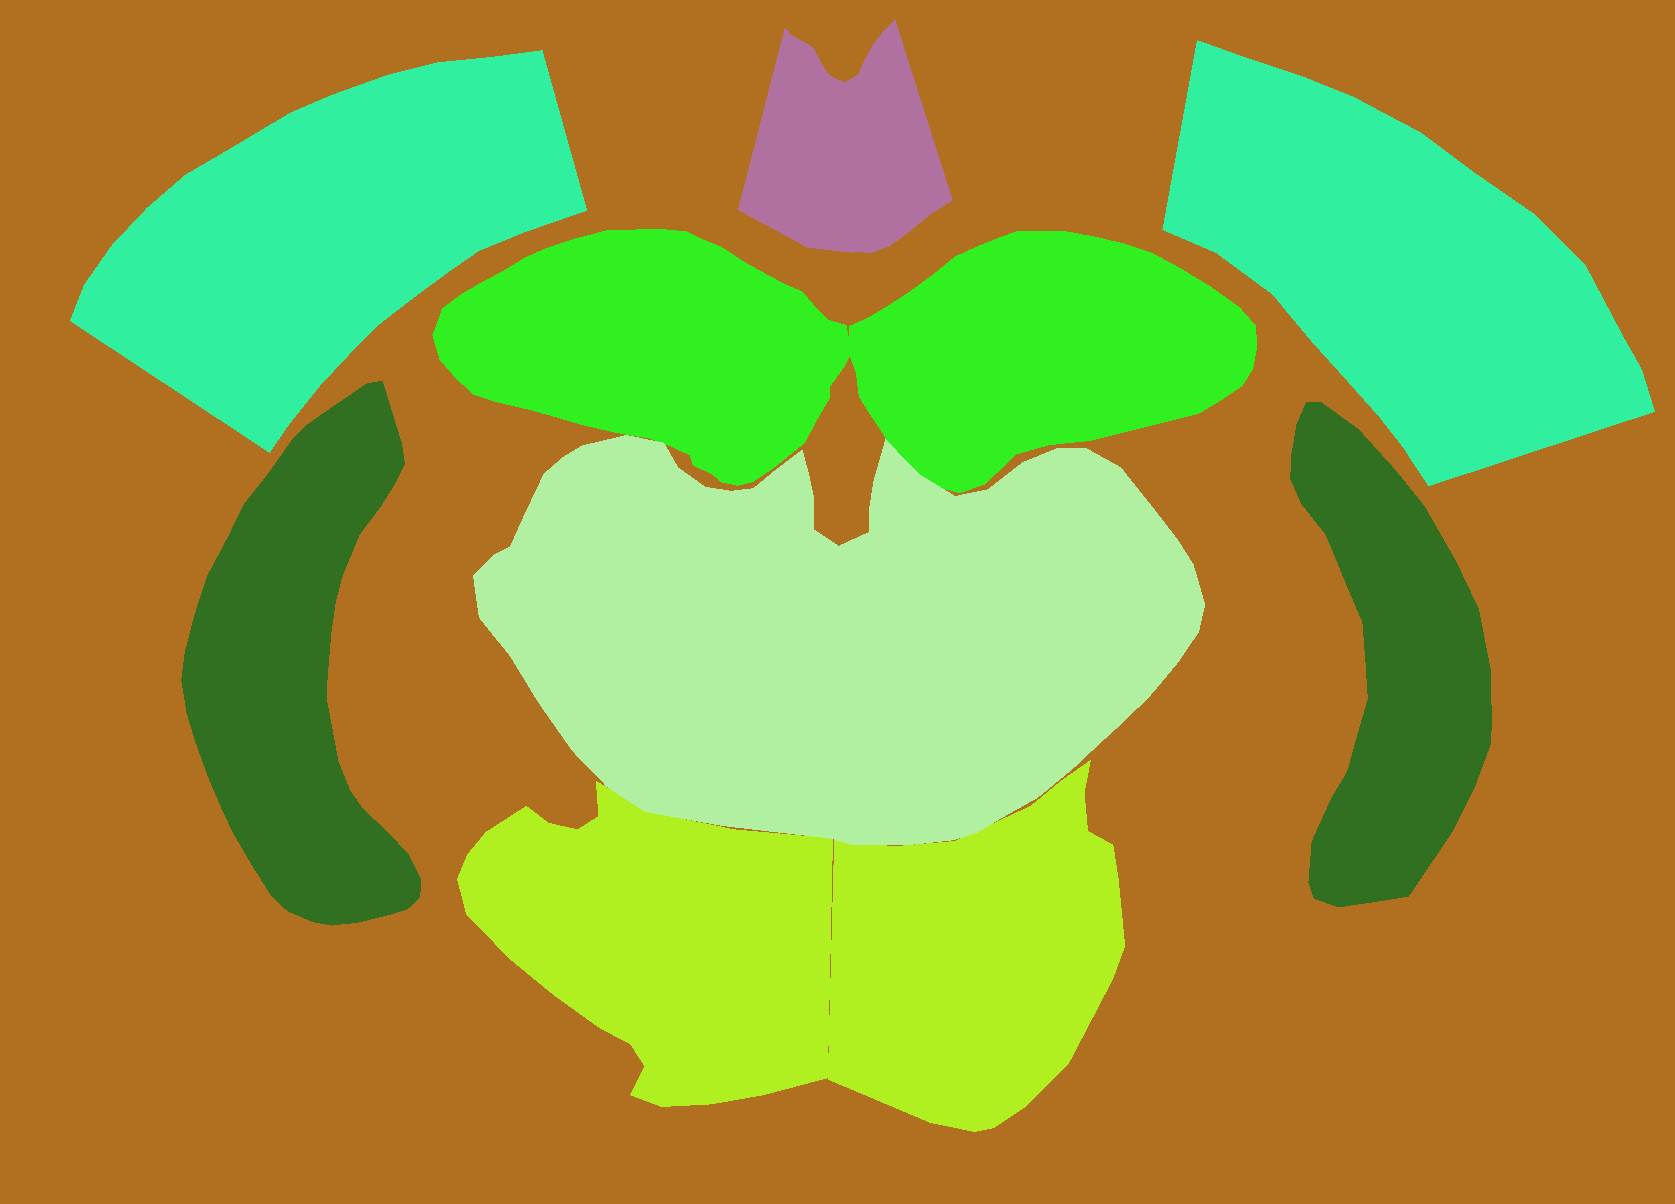Cerebral nuclei: (181, 381, 421, 926), (1290, 402, 1492, 908)
Hippocampal formation: (432, 229, 851, 486), (849, 231, 1258, 493)
Hypothalamus: (456, 781, 834, 1106), (828, 761, 1125, 1132)
Retrosplenial area: (737, 27, 853, 254), (847, 20, 953, 254)
Somatosensory area: (1163, 40, 1655, 486), (70, 49, 587, 452)
Thalamus: (834, 439, 1206, 846), (473, 436, 841, 839)
